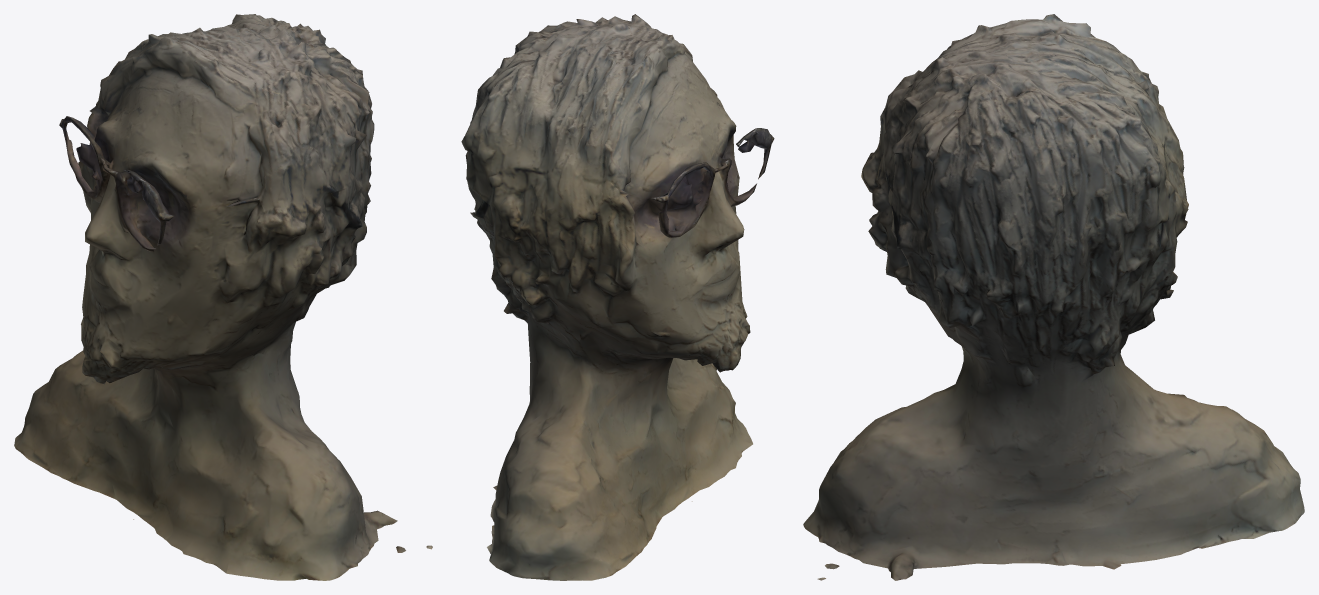
Rendered from clayman.glb.
3 views of the same model, side by side, from view 1: azimuth 30°, elevation 25°; view 2: azimuth 150°, elevation 25°; view 3: azimuth 270°, elevation 25° (orthographic). The views are drawn at different scales.
Parts seen in each view (by area): view 1: Clayman; view 2: Clayman; view 3: Clayman.
Part boxes in pixels (bbox=[...]): Clayman: bbox=[14, 14, 432, 580]; Clayman: bbox=[461, 14, 774, 580]; Clayman: bbox=[803, 14, 1304, 580].
Size of the model in its own units: 3.46 by 5.73 by 5.34.
Materials: 1 (1 with a texture image).
